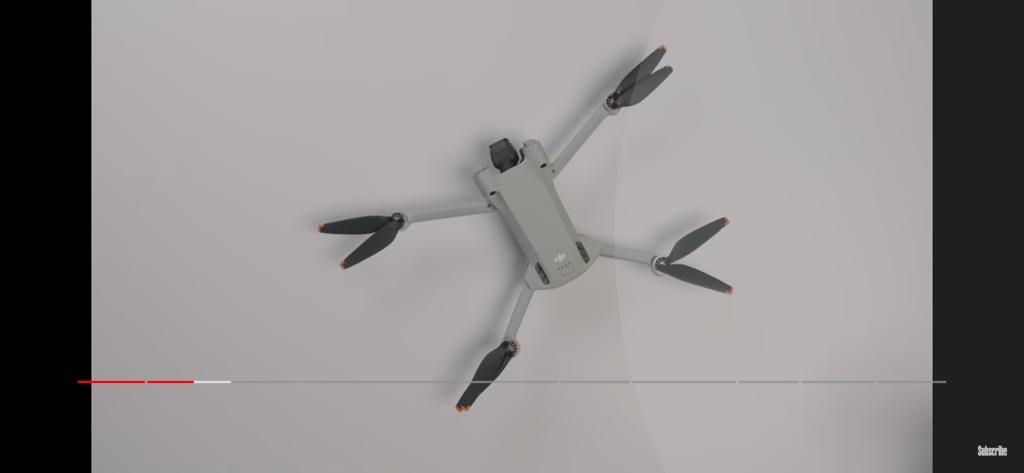drone_other: (314, 43, 733, 411)
